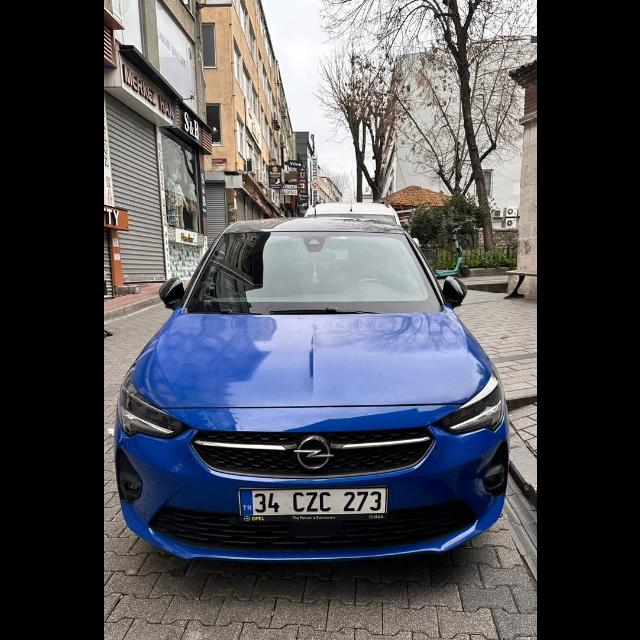Plaka: (242, 487, 386, 515)
